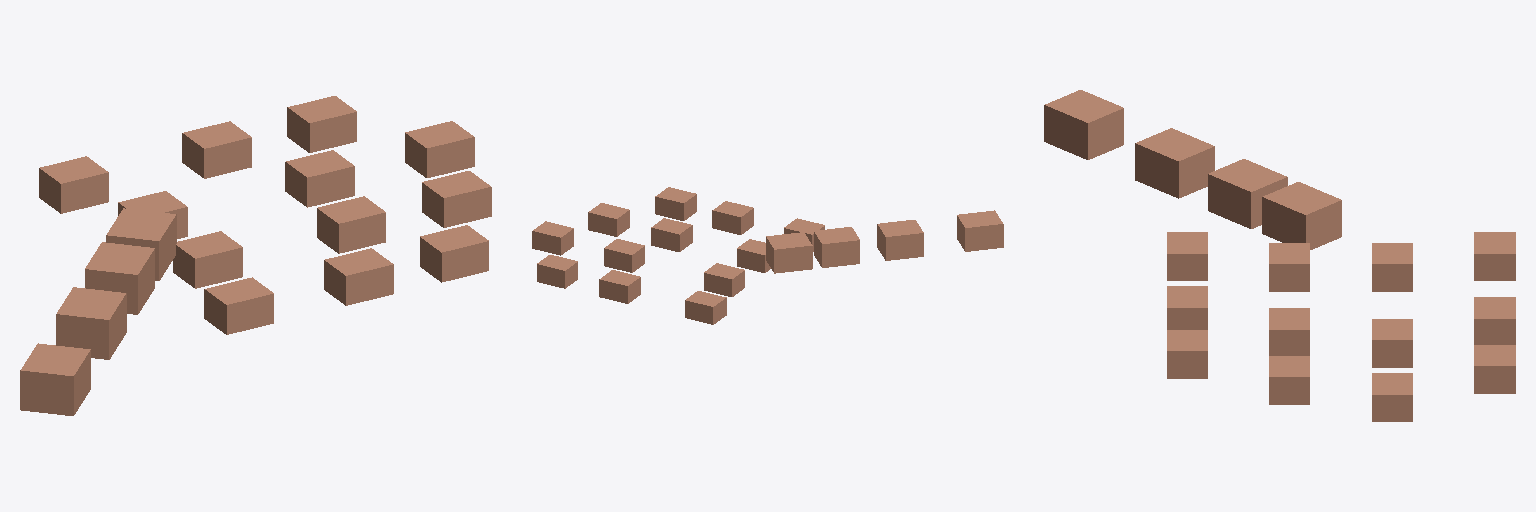
URDF robot description (inspire_hand_right):
<?xml version="1.0" ?>
<robot name="inspire_hand_right">
  <link name="base_link">
    <visual>
      <origin xyz="0 0 0" rpy="0 0 0"/>
      <geometry>
        <mesh filename="package://inspire_hand_description/meshes/right/full_hand.stl"/>
      </geometry>
    </visual>
    <collision>
      <origin xyz="0 0 0" rpy="0 0 0"/>
      <geometry>
        <box size="0.1 0.08 0.03"/>
      </geometry>
    </collision>
    <inertial>
      <mass value="0.2"/>
      <origin xyz="0 0 0" rpy="0 0 0"/>
      <inertia ixx="2e-07" ixy="0" ixz="0" iyy="2e-07" iyz="0" izz="2e-07"/>
    </inertial>
  </link>
  <link name="little_1_link">
    <visual>
      <origin xyz="0 0 0" rpy="0 0 0"/>
      <geometry>
        <box size="0.01 0.008 0.006"/>
      </geometry>
      <material name="finger_color">
        <color rgba="0.8 0.6 0.5 1.0"/>
      </material>
    </visual>
    <collision>
      <origin xyz="0 0 0" rpy="0 0 0"/>
      <geometry>
        <box size="0.01 0.008 0.006"/>
      </geometry>
    </collision>
    <inertial>
      <mass value="0.01"/>
      <origin xyz="0 0 0" rpy="0 0 0"/>
      <inertia ixx="1e-08" ixy="0" ixz="0" iyy="1e-08" iyz="0" izz="1e-08"/>
    </inertial>
  </link>
  <link name="little_2_link">
    <visual>
      <origin xyz="0 0 0" rpy="0 0 0"/>
      <geometry>
        <box size="0.01 0.008 0.006"/>
      </geometry>
      <material name="finger_color">
        <color rgba="0.8 0.6 0.5 1.0"/>
      </material>
    </visual>
    <collision>
      <origin xyz="0 0 0" rpy="0 0 0"/>
      <geometry>
        <box size="0.01 0.008 0.006"/>
      </geometry>
    </collision>
    <inertial>
      <mass value="0.01"/>
      <origin xyz="0 0 0" rpy="0 0 0"/>
      <inertia ixx="1e-08" ixy="0" ixz="0" iyy="1e-08" iyz="0" izz="1e-08"/>
    </inertial>
  </link>
  <link name="little_3_link">
    <visual>
      <origin xyz="0 0 0" rpy="0 0 0"/>
      <geometry>
        <box size="0.01 0.008 0.006"/>
      </geometry>
      <material name="finger_color">
        <color rgba="0.8 0.6 0.5 1.0"/>
      </material>
    </visual>
    <collision>
      <origin xyz="0 0 0" rpy="0 0 0"/>
      <geometry>
        <box size="0.01 0.008 0.006"/>
      </geometry>
    </collision>
    <inertial>
      <mass value="0.01"/>
      <origin xyz="0 0 0" rpy="0 0 0"/>
      <inertia ixx="1e-08" ixy="0" ixz="0" iyy="1e-08" iyz="0" izz="1e-08"/>
    </inertial>
  </link>
  <link name="ring_1_link">
    <visual>
      <origin xyz="0 0 0" rpy="0 0 0"/>
      <geometry>
        <box size="0.01 0.008 0.006"/>
      </geometry>
      <material name="finger_color">
        <color rgba="0.8 0.6 0.5 1.0"/>
      </material>
    </visual>
    <collision>
      <origin xyz="0 0 0" rpy="0 0 0"/>
      <geometry>
        <box size="0.01 0.008 0.006"/>
      </geometry>
    </collision>
    <inertial>
      <mass value="0.01"/>
      <origin xyz="0 0 0" rpy="0 0 0"/>
      <inertia ixx="1e-08" ixy="0" ixz="0" iyy="1e-08" iyz="0" izz="1e-08"/>
    </inertial>
  </link>
  <link name="ring_2_link">
    <visual>
      <origin xyz="0 0 0" rpy="0 0 0"/>
      <geometry>
        <box size="0.01 0.008 0.006"/>
      </geometry>
      <material name="finger_color">
        <color rgba="0.8 0.6 0.5 1.0"/>
      </material>
    </visual>
    <collision>
      <origin xyz="0 0 0" rpy="0 0 0"/>
      <geometry>
        <box size="0.01 0.008 0.006"/>
      </geometry>
    </collision>
    <inertial>
      <mass value="0.01"/>
      <origin xyz="0 0 0" rpy="0 0 0"/>
      <inertia ixx="1e-08" ixy="0" ixz="0" iyy="1e-08" iyz="0" izz="1e-08"/>
    </inertial>
  </link>
  <link name="ring_3_link">
    <visual>
      <origin xyz="0 0 0" rpy="0 0 0"/>
      <geometry>
        <box size="0.01 0.008 0.006"/>
      </geometry>
      <material name="finger_color">
        <color rgba="0.8 0.6 0.5 1.0"/>
      </material>
    </visual>
    <collision>
      <origin xyz="0 0 0" rpy="0 0 0"/>
      <geometry>
        <box size="0.01 0.008 0.006"/>
      </geometry>
    </collision>
    <inertial>
      <mass value="0.01"/>
      <origin xyz="0 0 0" rpy="0 0 0"/>
      <inertia ixx="1e-08" ixy="0" ixz="0" iyy="1e-08" iyz="0" izz="1e-08"/>
    </inertial>
  </link>
  <link name="middle_1_link">
    <visual>
      <origin xyz="0 0 0" rpy="0 0 0"/>
      <geometry>
        <box size="0.01 0.008 0.006"/>
      </geometry>
      <material name="finger_color">
        <color rgba="0.8 0.6 0.5 1.0"/>
      </material>
    </visual>
    <collision>
      <origin xyz="0 0 0" rpy="0 0 0"/>
      <geometry>
        <box size="0.01 0.008 0.006"/>
      </geometry>
    </collision>
    <inertial>
      <mass value="0.01"/>
      <origin xyz="0 0 0" rpy="0 0 0"/>
      <inertia ixx="1e-08" ixy="0" ixz="0" iyy="1e-08" iyz="0" izz="1e-08"/>
    </inertial>
  </link>
  <link name="middle_2_link">
    <visual>
      <origin xyz="0 0 0" rpy="0 0 0"/>
      <geometry>
        <box size="0.01 0.008 0.006"/>
      </geometry>
      <material name="finger_color">
        <color rgba="0.8 0.6 0.5 1.0"/>
      </material>
    </visual>
    <collision>
      <origin xyz="0 0 0" rpy="0 0 0"/>
      <geometry>
        <box size="0.01 0.008 0.006"/>
      </geometry>
    </collision>
    <inertial>
      <mass value="0.01"/>
      <origin xyz="0 0 0" rpy="0 0 0"/>
      <inertia ixx="1e-08" ixy="0" ixz="0" iyy="1e-08" iyz="0" izz="1e-08"/>
    </inertial>
  </link>
  <link name="middle_3_link">
    <visual>
      <origin xyz="0 0 0" rpy="0 0 0"/>
      <geometry>
        <box size="0.01 0.008 0.006"/>
      </geometry>
      <material name="finger_color">
        <color rgba="0.8 0.6 0.5 1.0"/>
      </material>
    </visual>
    <collision>
      <origin xyz="0 0 0" rpy="0 0 0"/>
      <geometry>
        <box size="0.01 0.008 0.006"/>
      </geometry>
    </collision>
    <inertial>
      <mass value="0.01"/>
      <origin xyz="0 0 0" rpy="0 0 0"/>
      <inertia ixx="1e-08" ixy="0" ixz="0" iyy="1e-08" iyz="0" izz="1e-08"/>
    </inertial>
  </link>
  <link name="index_1_link">
    <visual>
      <origin xyz="0 0 0" rpy="0 0 0"/>
      <geometry>
        <box size="0.01 0.008 0.006"/>
      </geometry>
      <material name="finger_color">
        <color rgba="0.8 0.6 0.5 1.0"/>
      </material>
    </visual>
    <collision>
      <origin xyz="0 0 0" rpy="0 0 0"/>
      <geometry>
        <box size="0.01 0.008 0.006"/>
      </geometry>
    </collision>
    <inertial>
      <mass value="0.01"/>
      <origin xyz="0 0 0" rpy="0 0 0"/>
      <inertia ixx="1e-08" ixy="0" ixz="0" iyy="1e-08" iyz="0" izz="1e-08"/>
    </inertial>
  </link>
  <link name="index_2_link">
    <visual>
      <origin xyz="0 0 0" rpy="0 0 0"/>
      <geometry>
        <box size="0.01 0.008 0.006"/>
      </geometry>
      <material name="finger_color">
        <color rgba="0.8 0.6 0.5 1.0"/>
      </material>
    </visual>
    <collision>
      <origin xyz="0 0 0" rpy="0 0 0"/>
      <geometry>
        <box size="0.01 0.008 0.006"/>
      </geometry>
    </collision>
    <inertial>
      <mass value="0.01"/>
      <origin xyz="0 0 0" rpy="0 0 0"/>
      <inertia ixx="1e-08" ixy="0" ixz="0" iyy="1e-08" iyz="0" izz="1e-08"/>
    </inertial>
  </link>
  <link name="index_3_link">
    <visual>
      <origin xyz="0 0 0" rpy="0 0 0"/>
      <geometry>
        <box size="0.01 0.008 0.006"/>
      </geometry>
      <material name="finger_color">
        <color rgba="0.8 0.6 0.5 1.0"/>
      </material>
    </visual>
    <collision>
      <origin xyz="0 0 0" rpy="0 0 0"/>
      <geometry>
        <box size="0.01 0.008 0.006"/>
      </geometry>
    </collision>
    <inertial>
      <mass value="0.01"/>
      <origin xyz="0 0 0" rpy="0 0 0"/>
      <inertia ixx="1e-08" ixy="0" ixz="0" iyy="1e-08" iyz="0" izz="1e-08"/>
    </inertial>
  </link>
  <link name="thumb_1_link">
    <visual>
      <origin xyz="0 0 0" rpy="0 0 0"/>
      <geometry>
        <box size="0.012 0.01 0.008"/>
      </geometry>
      <material name="finger_color">
        <color rgba="0.8 0.6 0.5 1.0"/>
      </material>
    </visual>
    <collision>
      <origin xyz="0 0 0" rpy="0 0 0"/>
      <geometry>
        <box size="0.012 0.01 0.008"/>
      </geometry>
    </collision>
    <inertial>
      <mass value="0.01"/>
      <origin xyz="0 0 0" rpy="0 0 0"/>
      <inertia ixx="1e-08" ixy="0" ixz="0" iyy="1e-08" iyz="0" izz="1e-08"/>
    </inertial>
  </link>
  <link name="thumb_2_link">
    <visual>
      <origin xyz="0 0 0" rpy="0 0 0"/>
      <geometry>
        <box size="0.012 0.01 0.008"/>
      </geometry>
      <material name="finger_color">
        <color rgba="0.8 0.6 0.5 1.0"/>
      </material>
    </visual>
    <collision>
      <origin xyz="0 0 0" rpy="0 0 0"/>
      <geometry>
        <box size="0.012 0.01 0.008"/>
      </geometry>
    </collision>
    <inertial>
      <mass value="0.01"/>
      <origin xyz="0 0 0" rpy="0 0 0"/>
      <inertia ixx="1e-08" ixy="0" ixz="0" iyy="1e-08" iyz="0" izz="1e-08"/>
    </inertial>
  </link>
  <link name="thumb_3_link">
    <visual>
      <origin xyz="0 0 0" rpy="0 0 0"/>
      <geometry>
        <box size="0.012 0.01 0.008"/>
      </geometry>
      <material name="finger_color">
        <color rgba="0.8 0.6 0.5 1.0"/>
      </material>
    </visual>
    <collision>
      <origin xyz="0 0 0" rpy="0 0 0"/>
      <geometry>
        <box size="0.012 0.01 0.008"/>
      </geometry>
    </collision>
    <inertial>
      <mass value="0.01"/>
      <origin xyz="0 0 0" rpy="0 0 0"/>
      <inertia ixx="1e-08" ixy="0" ixz="0" iyy="1e-08" iyz="0" izz="1e-08"/>
    </inertial>
  </link>
  <link name="thumb_4_link">
    <visual>
      <origin xyz="0 0 0" rpy="0 0 0"/>
      <geometry>
        <box size="0.012 0.01 0.008"/>
      </geometry>
      <material name="finger_color">
        <color rgba="0.8 0.6 0.5 1.0"/>
      </material>
    </visual>
    <collision>
      <origin xyz="0 0 0" rpy="0 0 0"/>
      <geometry>
        <box size="0.012 0.01 0.008"/>
      </geometry>
    </collision>
    <inertial>
      <mass value="0.01"/>
      <origin xyz="0 0 0" rpy="0 0 0"/>
      <inertia ixx="1e-08" ixy="0" ixz="0" iyy="1e-08" iyz="0" izz="1e-08"/>
    </inertial>
  </link>
  <joint name="little_1_joint" type="revolute">
    <parent link="base_link"/>
    <child link="little_1_link"/>
    <origin xyz="0.08 -0.02 0.01" rpy="0 0 0"/>
    <axis xyz="0 1 0"/>
    <limit lower="0.0" upper="1.333" effort="1.0" velocity="1.0"/>
  </joint>
  <joint name="little_2_joint" type="revolute">
    <parent link="little_1_link"/>
    <child link="little_2_link"/>
    <origin xyz="0.025 0 0" rpy="0 0 0"/>
    <axis xyz="0 1 0"/>
    <limit lower="0.0" upper="1.4888276999999999" effort="1.0" velocity="1.0"/>
    <mimic joint="little_1_joint" multiplier="1.1169" offset="0.0"/>
  </joint>
  <joint name="little_3_joint" type="fixed">
    <parent link="little_2_link"/>
    <child link="little_3_link"/>
    <origin xyz="0.02 0 0" rpy="0 0 0"/>
  </joint>
  <joint name="ring_1_joint" type="revolute">
    <parent link="base_link"/>
    <child link="ring_1_link"/>
    <origin xyz="0.085 0.0 0.01" rpy="0 0 0"/>
    <axis xyz="0 1 0"/>
    <limit lower="0.0" upper="1.333" effort="1.0" velocity="1.0"/>
  </joint>
  <joint name="ring_2_joint" type="revolute">
    <parent link="ring_1_link"/>
    <child link="ring_2_link"/>
    <origin xyz="0.03 0 0" rpy="0 0 0"/>
    <axis xyz="0 1 0"/>
    <limit lower="0.0" upper="1.4888276999999999" effort="1.0" velocity="1.0"/>
    <mimic joint="ring_1_joint" multiplier="1.1169" offset="0.0"/>
  </joint>
  <joint name="ring_3_joint" type="fixed">
    <parent link="ring_2_link"/>
    <child link="ring_3_link"/>
    <origin xyz="0.022 0 0" rpy="0 0 0"/>
  </joint>
  <joint name="middle_1_joint" type="revolute">
    <parent link="base_link"/>
    <child link="middle_1_link"/>
    <origin xyz="0.085 0.02 0.01" rpy="0 0 0"/>
    <axis xyz="0 1 0"/>
    <limit lower="0.0" upper="1.333" effort="1.0" velocity="1.0"/>
  </joint>
  <joint name="middle_2_joint" type="revolute">
    <parent link="middle_1_link"/>
    <child link="middle_2_link"/>
    <origin xyz="0.035 0 0" rpy="0 0 0"/>
    <axis xyz="0 1 0"/>
    <limit lower="0.0" upper="1.4888276999999999" effort="1.0" velocity="1.0"/>
    <mimic joint="middle_1_joint" multiplier="1.1169" offset="0.0"/>
  </joint>
  <joint name="middle_3_joint" type="fixed">
    <parent link="middle_2_link"/>
    <child link="middle_3_link"/>
    <origin xyz="0.025 0 0" rpy="0 0 0"/>
  </joint>
  <joint name="index_1_joint" type="revolute">
    <parent link="base_link"/>
    <child link="index_1_link"/>
    <origin xyz="0.08 0.04 0.01" rpy="0 0 0"/>
    <axis xyz="0 1 0"/>
    <limit lower="0.0" upper="1.333" effort="1.0" velocity="1.0"/>
  </joint>
  <joint name="index_2_joint" type="revolute">
    <parent link="index_1_link"/>
    <child link="index_2_link"/>
    <origin xyz="0.03 0 0" rpy="0 0 0"/>
    <axis xyz="0 1 0"/>
    <limit lower="0.0" upper="1.4888276999999999" effort="1.0" velocity="1.0"/>
    <mimic joint="index_1_joint" multiplier="1.1169" offset="0.0"/>
  </joint>
  <joint name="index_3_joint" type="fixed">
    <parent link="index_2_link"/>
    <child link="index_3_link"/>
    <origin xyz="0.022 0 0" rpy="0 0 0"/>
  </joint>
  <joint name="thumb_1_joint" type="revolute">
    <parent link="base_link"/>
    <child link="thumb_1_link"/>
    <origin xyz="0.03 -0.04 0.015" rpy="0 0 0.7853981633974483"/>
    <axis xyz="0 0 1"/>
    <limit lower="0.0" upper="1.246" effort="1.0" velocity="1.0"/>
  </joint>
  <joint name="thumb_2_joint" type="revolute">
    <parent link="thumb_1_link"/>
    <child link="thumb_2_link"/>
    <origin xyz="0.025 0 0" rpy="0 0 0"/>
    <axis xyz="0 1 0"/>
    <limit lower="0.0" upper="0.48" effort="1.0" velocity="1.0"/>
  </joint>
  <joint name="thumb_3_joint" type="revolute">
    <parent link="thumb_2_link"/>
    <child link="thumb_3_link"/>
    <origin xyz="0.02 0 0" rpy="0 0 0"/>
    <axis xyz="0 1 0"/>
    <limit lower="0.0" upper="0.536112" effort="1.0" velocity="1.0"/>
    <mimic joint="thumb_2_joint" multiplier="1.1169" offset="0.0"/>
  </joint>
  <joint name="thumb_4_joint" type="fixed">
    <parent link="thumb_3_link"/>
    <child link="thumb_4_link"/>
    <origin xyz="0.015 0 0" rpy="0 0 0"/>
  </joint>
</robot>

--- What the picture shows (computed from the rendered views, not written in the file) ---
The picture shows the robot from 3 angles, left to right: view 1: azimuth 30°, elevation 25°; view 2: azimuth 150°, elevation 25°; view 3: azimuth 270°, elevation 25°; orthographic projection.
Model inspire_hand_right with 17 links and 16 joints (11 revolute, 5 fixed), rooted at base_link, posed every joint at zero.
Links seen in each view (by area): view 1: thumb_1_link, thumb_2_link, thumb_3_link, index_2_link, little_1_link, little_2_link, index_1_link, index_3_link, ring_3_link, middle_3_link, middle_2_link, little_3_link (+4 smaller); view 2: thumb_4_link, thumb_2_link, thumb_1_link, thumb_3_link, little_2_link, ring_2_link, ring_3_link, middle_3_link, little_3_link, index_1_link, index_2_link, index_3_link (+3 smaller); view 3: thumb_1_link, thumb_2_link, thumb_4_link, thumb_3_link, index_1_link, index_3_link, index_2_link, little_1_link, little_3_link, ring_1_link, ring_3_link, middle_1_link (+4 smaller).
Link boxes in pixels (left/top/right/bottom): thumb_1_link: left=20, top=343, right=90, bottom=415; thumb_2_link: left=56, top=287, right=126, bottom=359; thumb_3_link: left=85, top=242, right=154, bottom=314; index_2_link: left=182, top=121, right=251, bottom=178; little_1_link: left=204, top=277, right=273, bottom=334; little_2_link: left=324, top=248, right=393, bottom=305; index_1_link: left=39, top=156, right=108, bottom=213; index_3_link: left=287, top=96, right=356, bottom=152; ring_3_link: left=422, top=171, right=491, bottom=227; middle_3_link: left=405, top=121, right=474, bottom=177; middle_2_link: left=285, top=150, right=354, bottom=207; little_3_link: left=420, top=225, right=488, bottom=282; thumb_4_link: left=766, top=232, right=812, bottom=273; thumb_2_link: left=877, top=220, right=923, bottom=260; thumb_1_link: left=957, top=210, right=1003, bottom=251; thumb_3_link: left=814, top=227, right=859, bottom=267; little_2_link: left=712, top=201, right=753, bottom=234; ring_2_link: left=651, top=218, right=692, bottom=251; ring_3_link: left=588, top=203, right=629, bottom=236; middle_3_link: left=532, top=221, right=573, bottom=255; little_3_link: left=655, top=187, right=696, bottom=220; index_1_link: left=685, top=291, right=726, bottom=324; index_2_link: left=599, top=270, right=640, bottom=303; index_3_link: left=537, top=255, right=577, bottom=288; thumb_1_link: left=1044, top=90, right=1123, bottom=159; thumb_2_link: left=1135, top=128, right=1214, bottom=198; thumb_4_link: left=1262, top=182, right=1341, bottom=249; thumb_3_link: left=1208, top=159, right=1287, bottom=228; index_1_link: left=1474, top=232, right=1515, bottom=280; index_3_link: left=1474, top=345, right=1515, bottom=393; index_2_link: left=1474, top=297, right=1515, bottom=344; little_1_link: left=1167, top=232, right=1207, bottom=280; little_3_link: left=1167, top=330, right=1207, bottom=378; ring_1_link: left=1269, top=243, right=1309, bottom=291; ring_3_link: left=1269, top=356, right=1309, bottom=404; middle_1_link: left=1372, top=243, right=1412, bottom=291.
Bounding box of the posed robot: 0.1278 × 0.0918 × 0.012 m (x, y, z).
Meshes: 1 distinct files referenced, 0 mesh visuals loaded (none loaded); not drawn: 1 (reference not matched to a file when rendering).